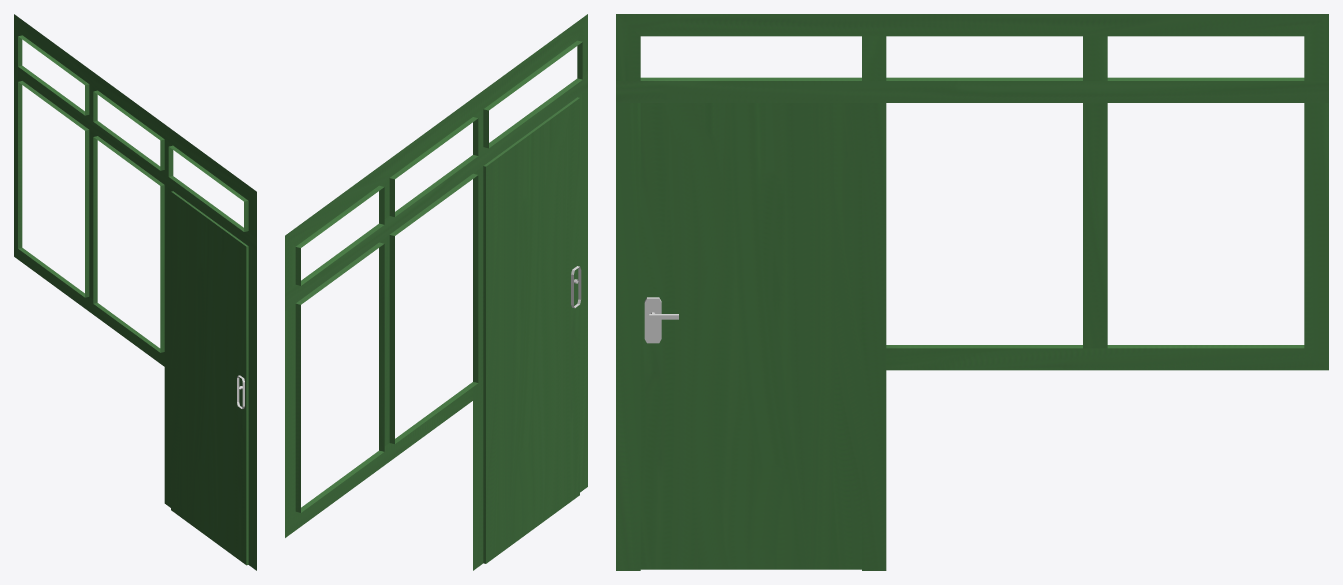
File: Pintu_Rumah.fbx
3 renders of one model, left to right at view 1: azimuth 30°, elevation 25°; view 2: azimuth 150°, elevation 25°; view 3: azimuth 270°, elevation 25°, orthographic. The views are drawn at different scales.
Parts seen in each view (by area): view 1: Plane.001; view 2: Plane.001; view 3: Plane.001, Pintu_Kamar.001.
Boxes of the visible parts, left/top/right/bottom form: Plane.001: left=14, top=14, right=256, bottom=570; Plane.001: left=285, top=14, right=587, bottom=570; Plane.001: left=616, top=14, right=1328, bottom=570; Pintu_Kamar.001: left=644, top=297, right=678, bottom=343.
Bounding box in the file's own units: 6 × 250 × 290.
1 material, 1 textured.
